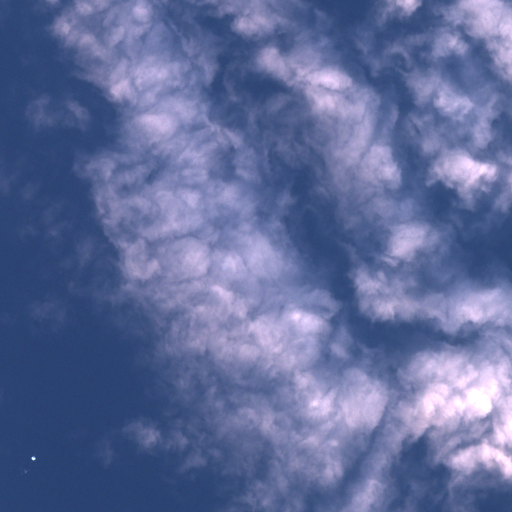Iceberg: (31, 456, 35, 460)
